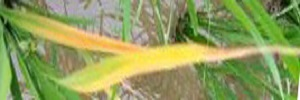RiceTungro: (45, 29, 150, 63), (150, 43, 256, 64)
